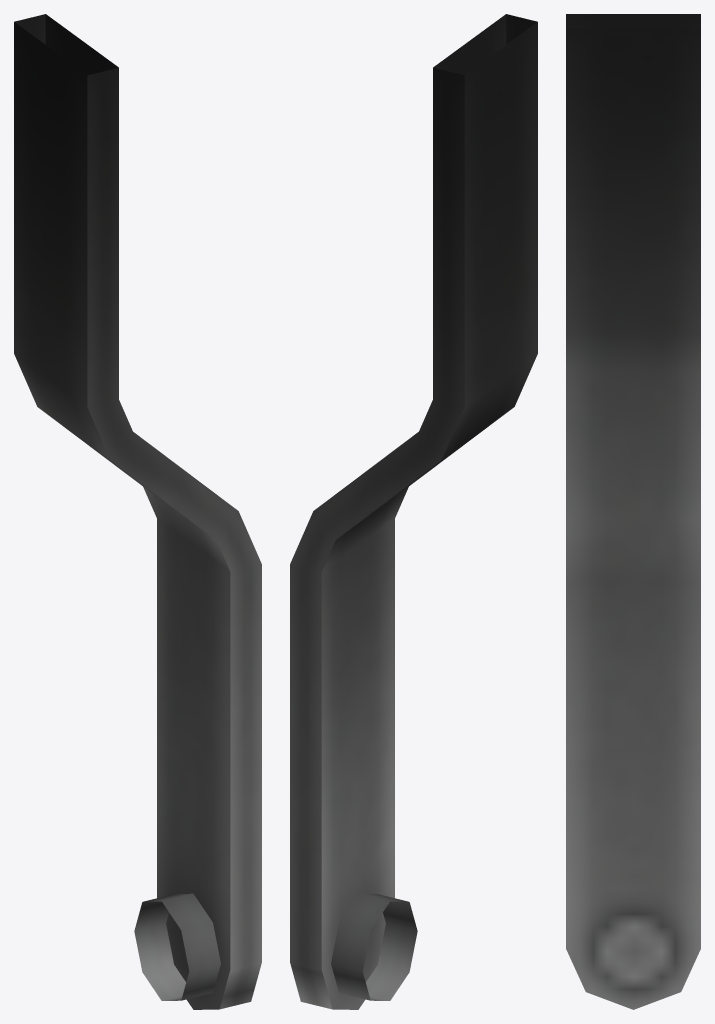
Rendered from blue_steel_landing_gear_srf_1_suspension.obj.
The picture shows the model from 3 angles, left to right: view 1: azimuth 30°, elevation 25°; view 2: azimuth 150°, elevation 25°; view 3: azimuth 270°, elevation 25°; orthographic projection. The views are drawn at different scales.
Parts seen in each view (by area): view 1: suspension1; view 2: suspension1; view 3: suspension1.
Boxes of the visible parts, x1,y1,x2,y2 form: suspension1: (14, 14, 261, 1009); suspension1: (290, 14, 537, 1009); suspension1: (566, 14, 700, 1009).
Bounding box in the file's own units: 0.0688 × 0.375 × 0.05.
Materials: 1 (1 with a texture image).
